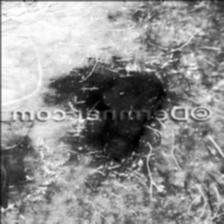Potentially Malignant Skin Tumors: (64, 119, 168, 160), (58, 70, 172, 106)
